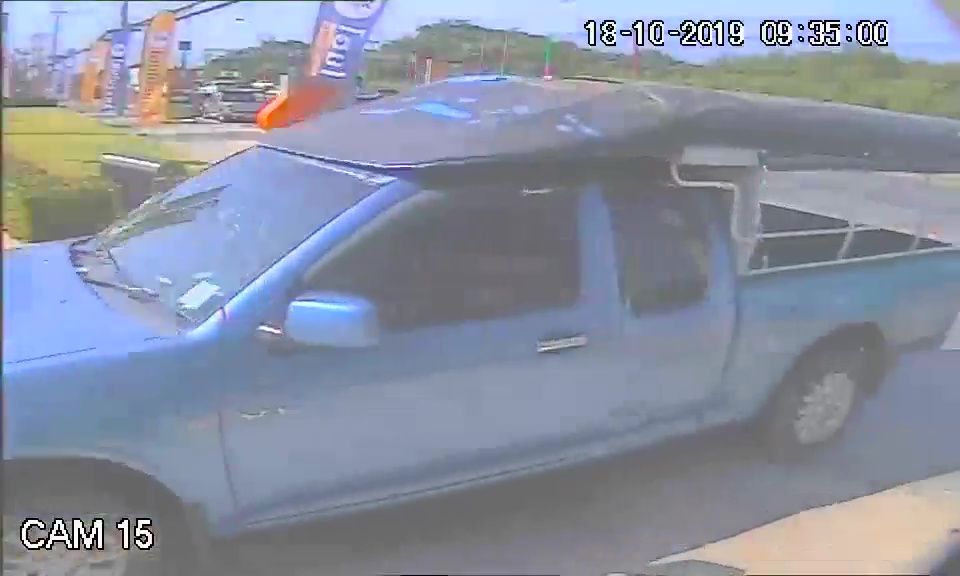pickup: (4, 132, 960, 494)
